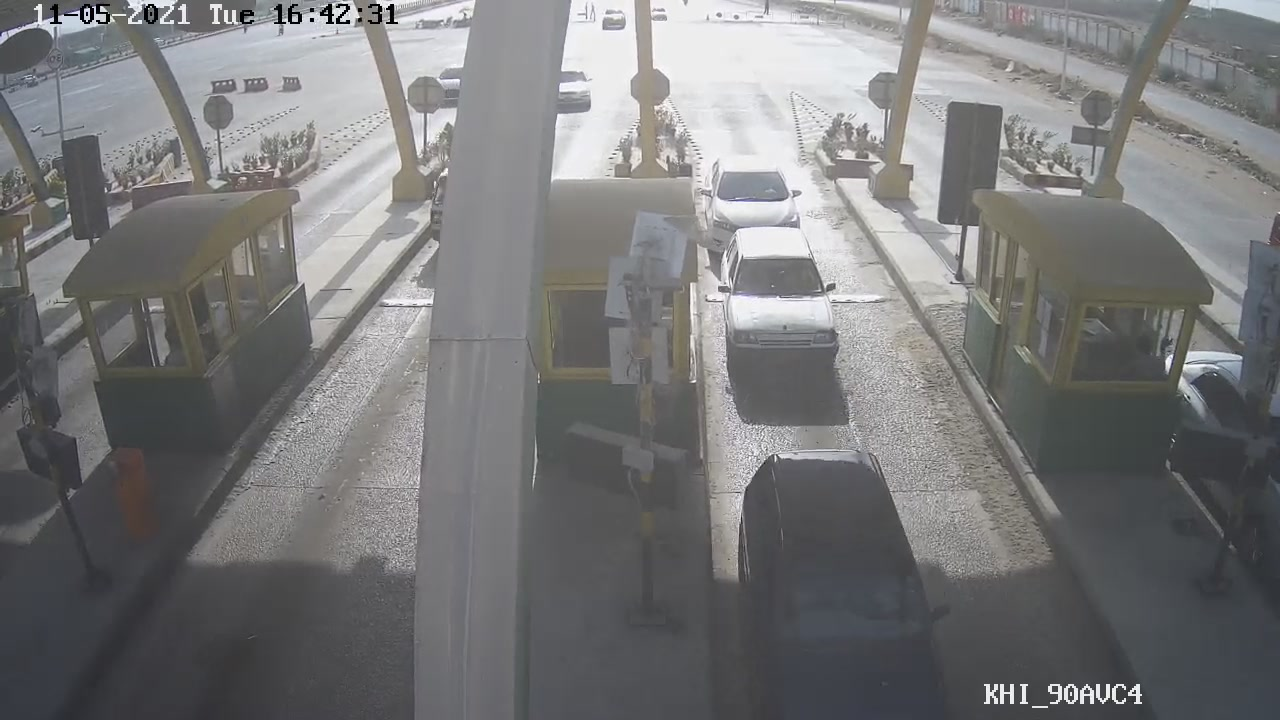F1: (710, 224, 853, 382)
